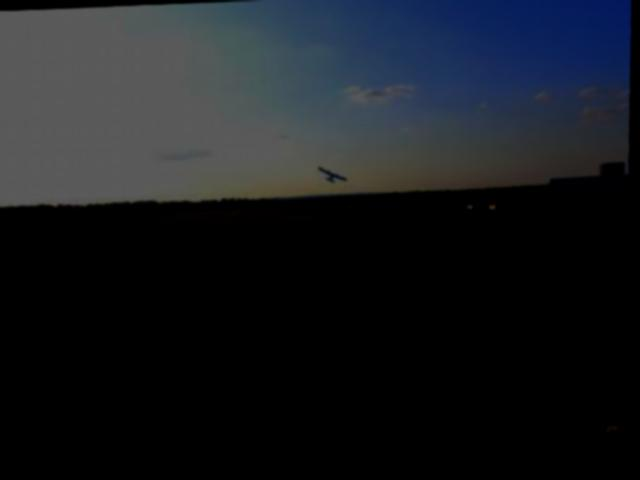uav: (319, 162, 352, 185)
